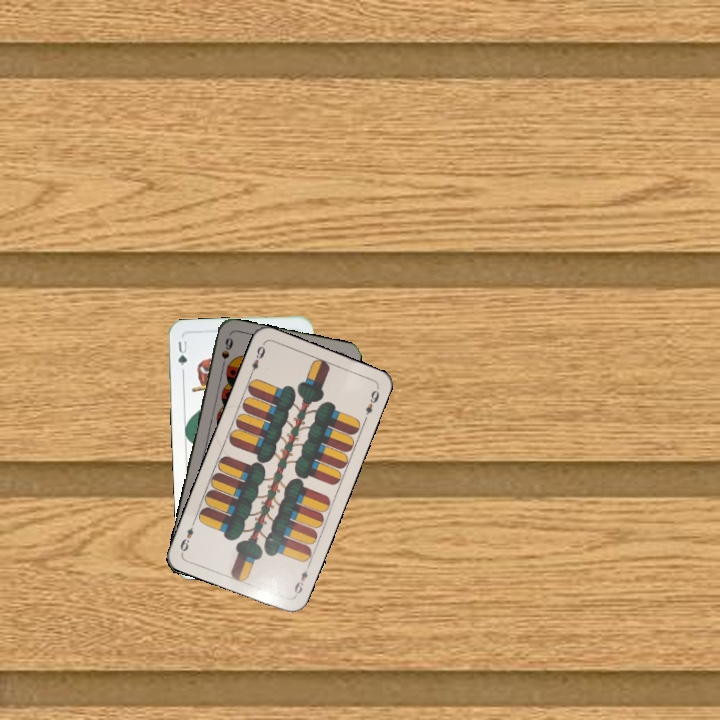E9: (290, 560, 313, 599), (246, 342, 268, 379)
GU: (174, 335, 190, 368)
S9: (217, 333, 236, 373)
